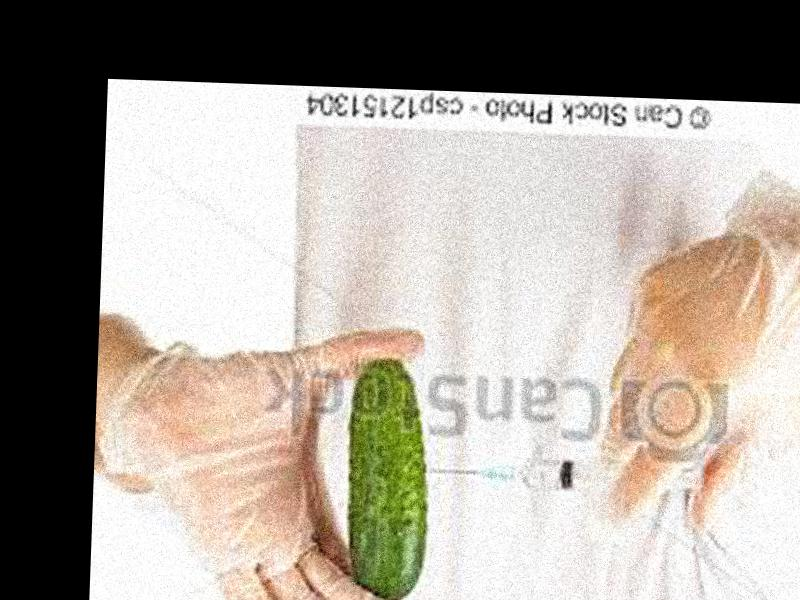Cucumber: (340, 359, 429, 600)
